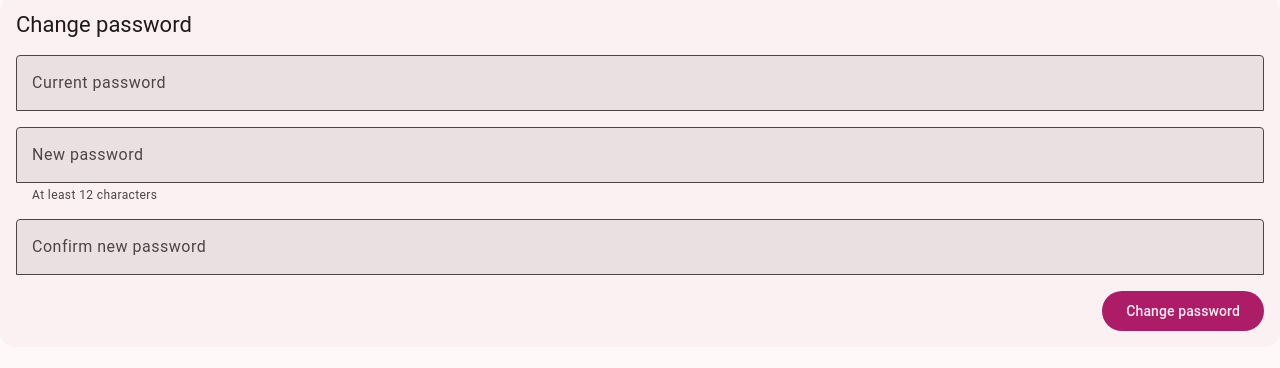
Scenario: PasswordCard › asks for the current password
In the password field with id "account-new-password": {"x": 640, "y": 155} [16,127,1264,183], type "new-password-123"
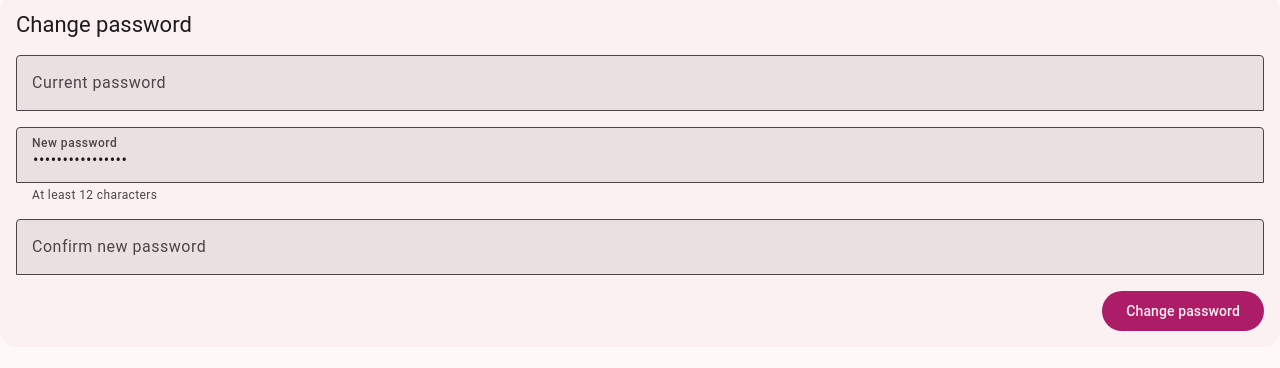
In the password field with id "account-confirm-password": {"x": 640, "y": 247} [16,219,1264,275], type "new-password-123"
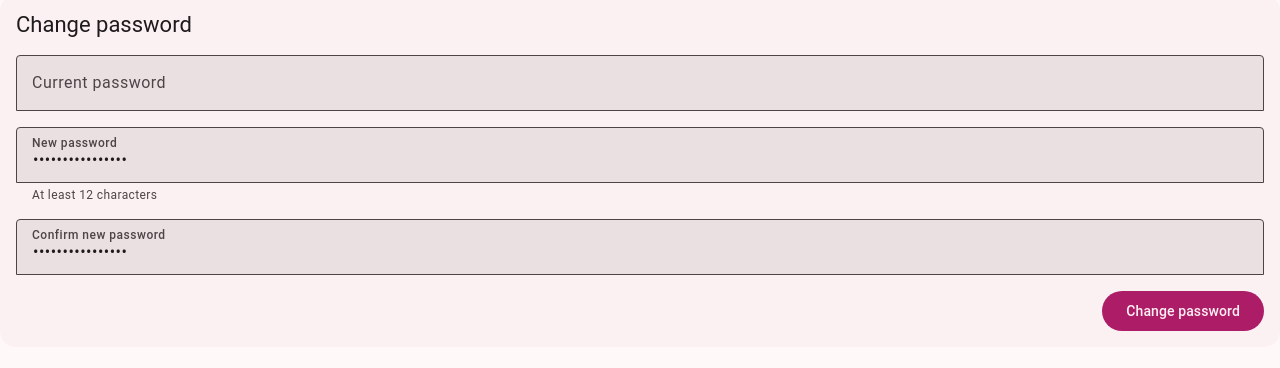
Submit the form
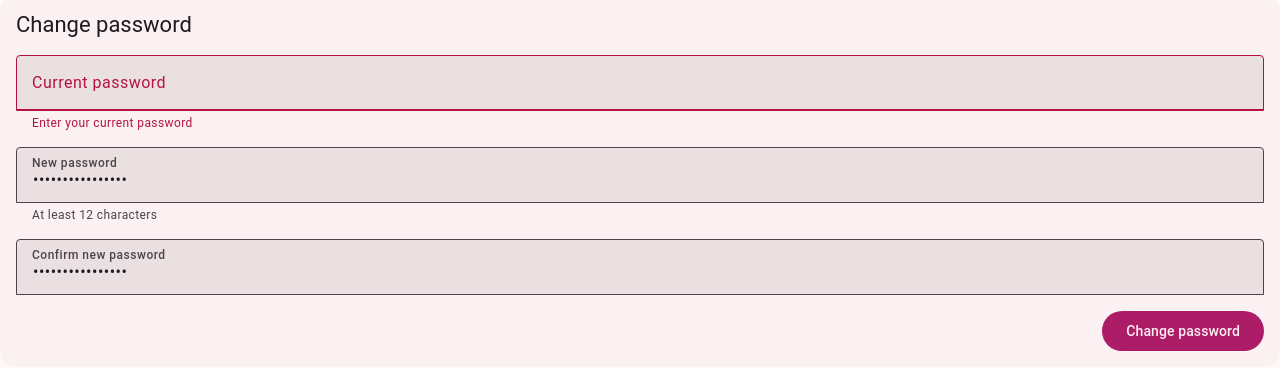
Check: the text "Enter your current password" is shown, box [32,116,193,130]
